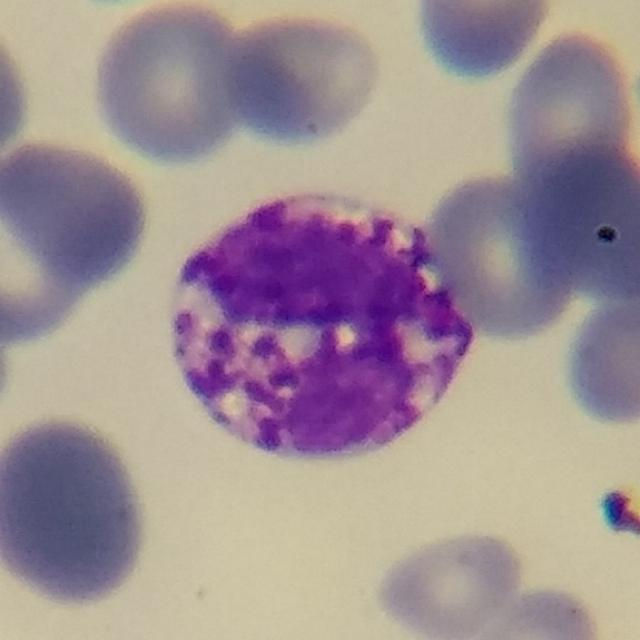baso: (164, 189, 478, 472)
